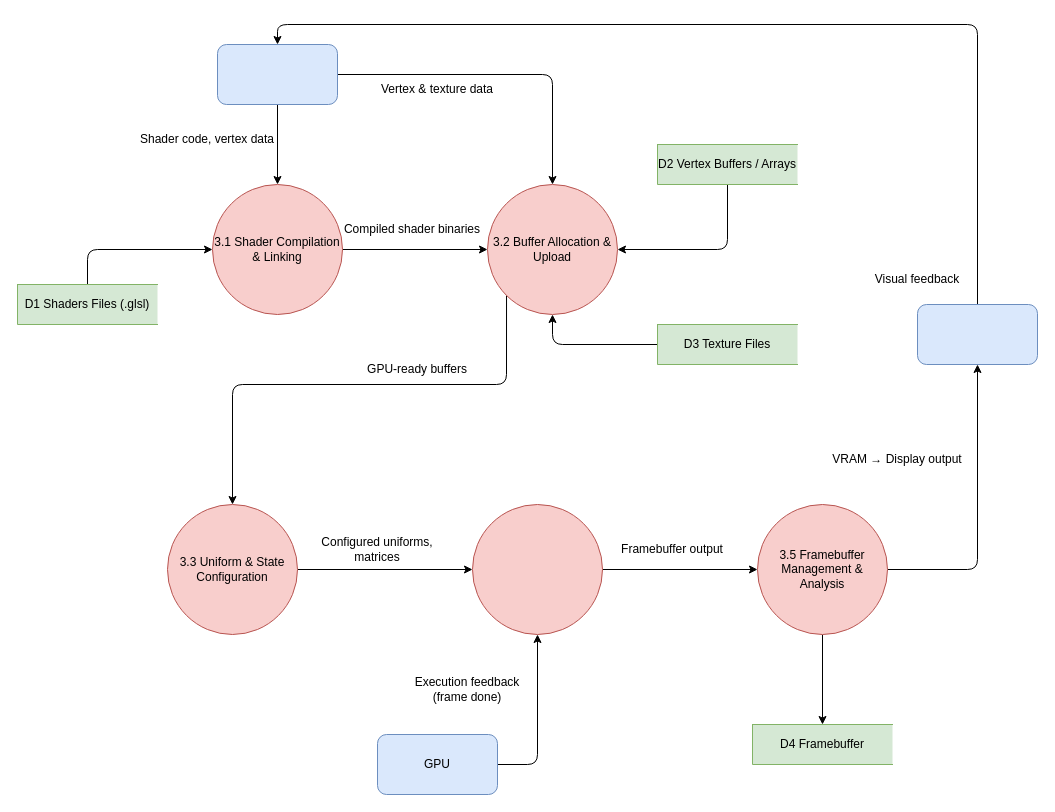
This 1055x812 diagram has some shape labels left out. Here are the shapes that lost their labels. From the top down, the centre of each, then its label:
the point at 277,74: USER
the point at 977,334: MONITOR
the point at 537,569: 3.4 Rendering Execution (GPU Pipeline)
